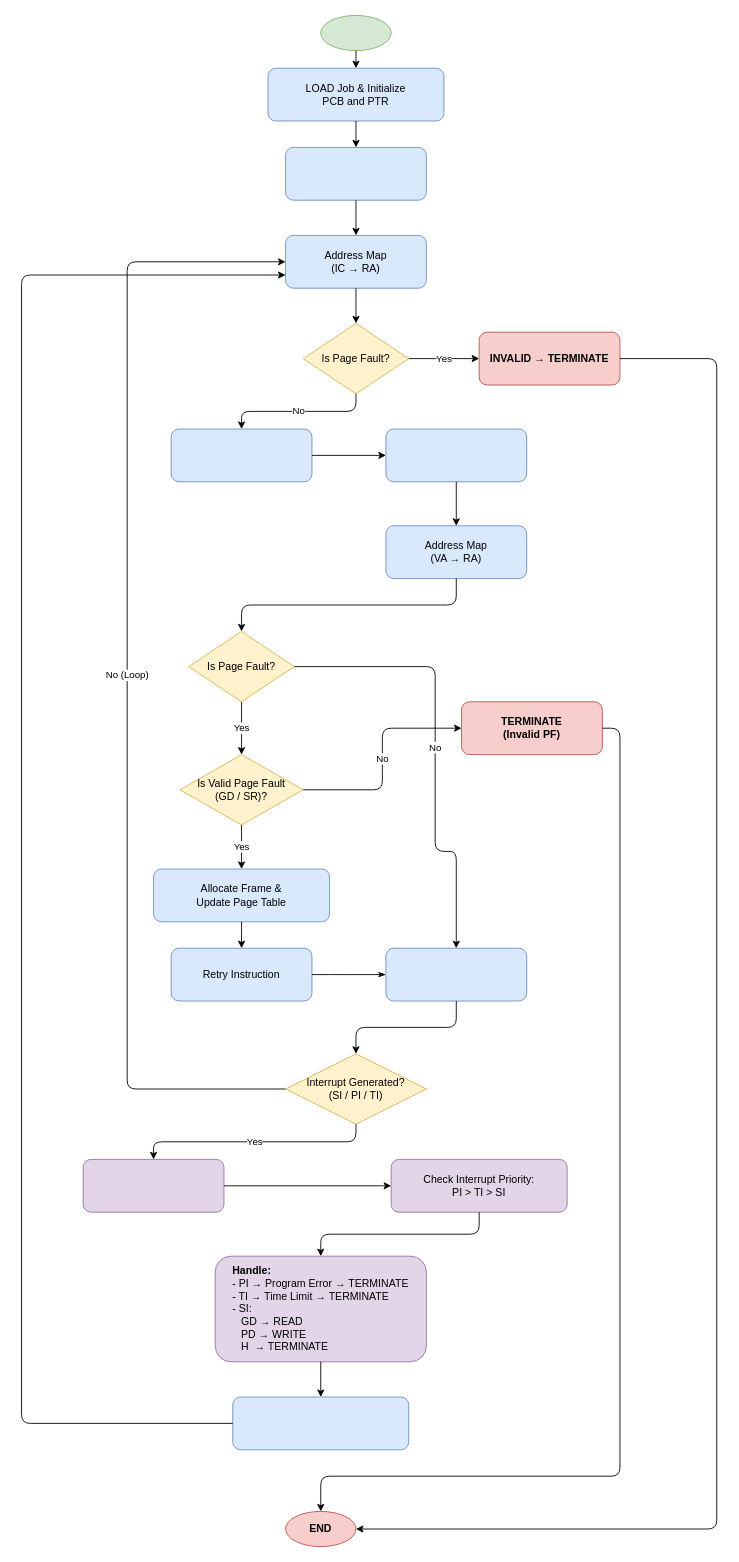
The diagram is 739 pixels wide and 1562 high, and some of its shapes have lost their labels. Each missing label, with the centre of its shape:
Decode Instruction: pixel 456 455
Execute Instruction: pixel 456 974
Fetch Instruction (IR = M[RA]): pixel 241 455
If not terminated → Go to Address Map (IC → RA): pixel 320 1423
MOS (Master Mode): pixel 153 1185
START: pixel 355 33
Start Execution (IC = 0): pixel 355 173
